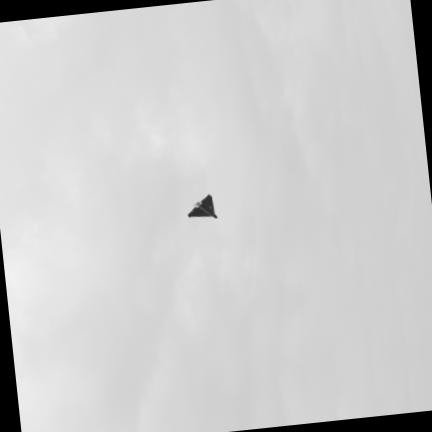Shahed: (188, 194, 217, 217)
